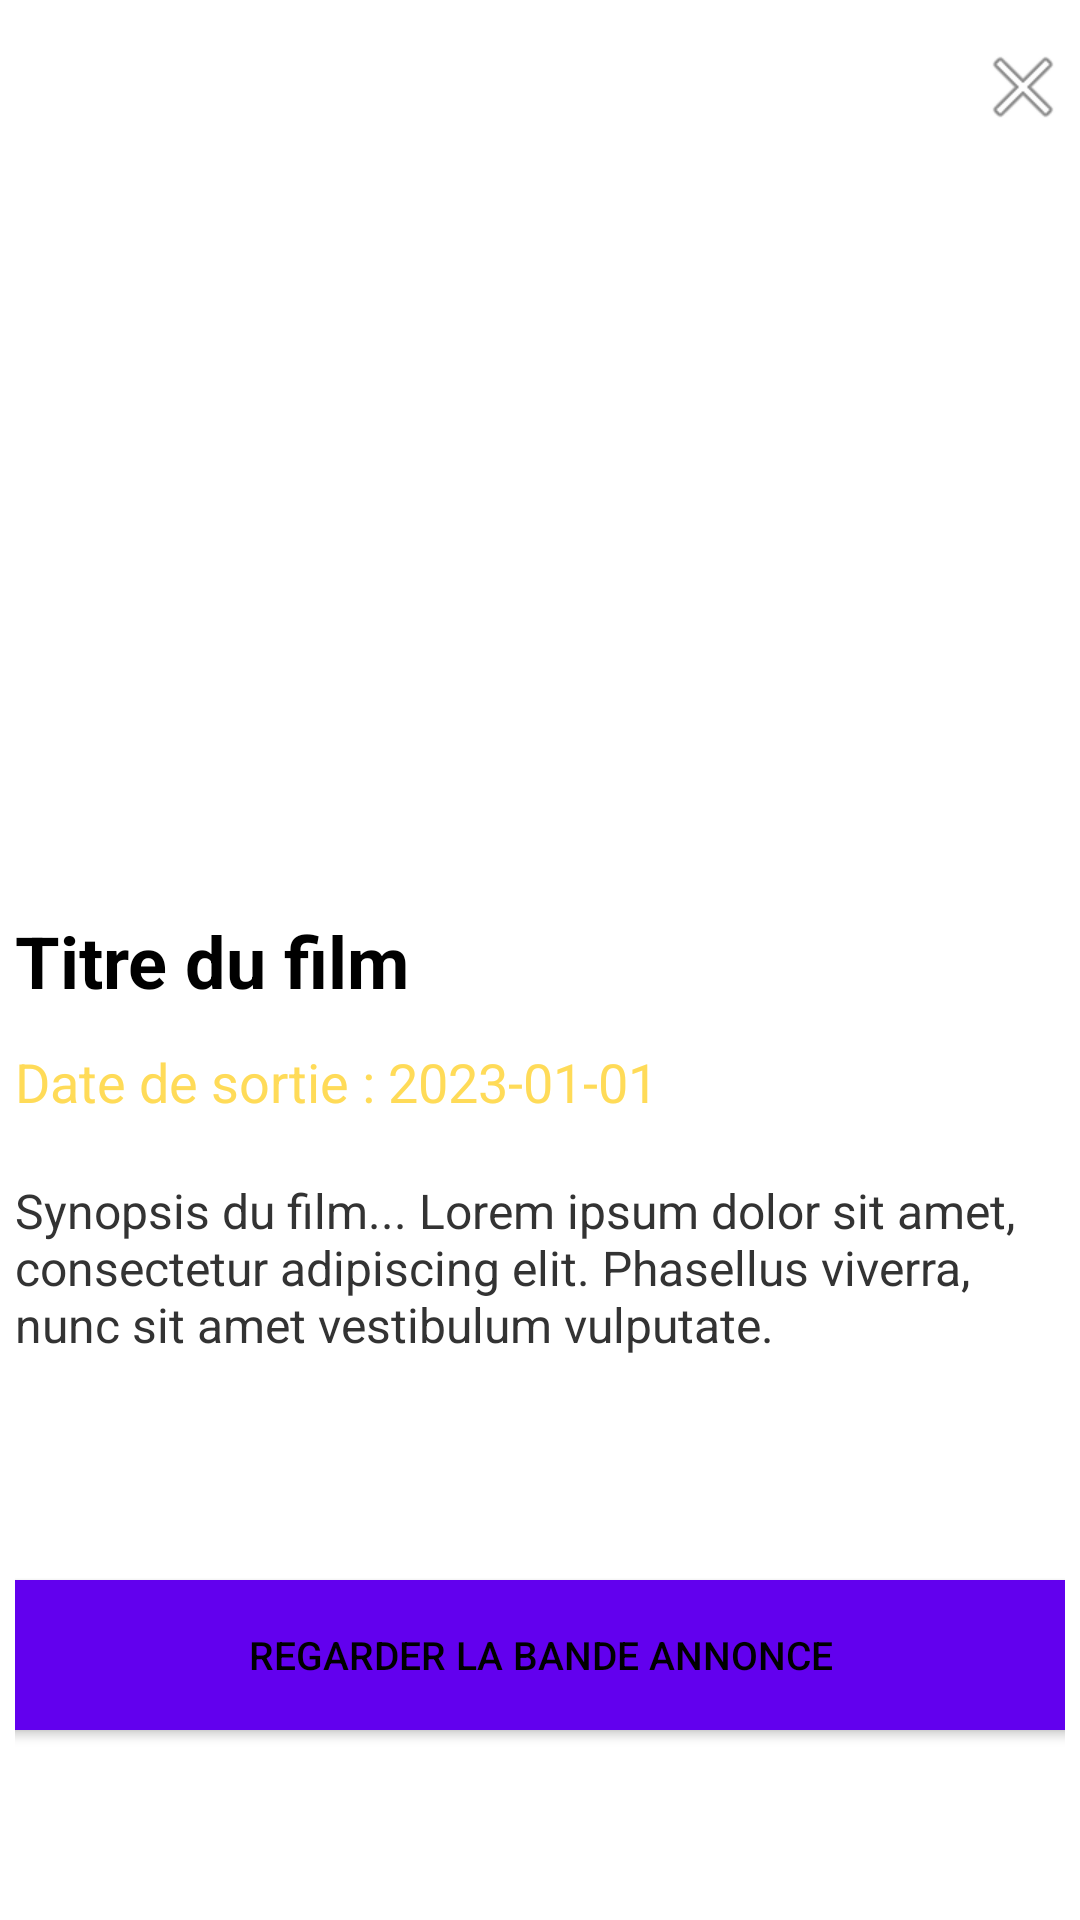

Icon click points for this 1080 × 1920 phone screenshot, format (x,y):
Fermer: (1023,87)
